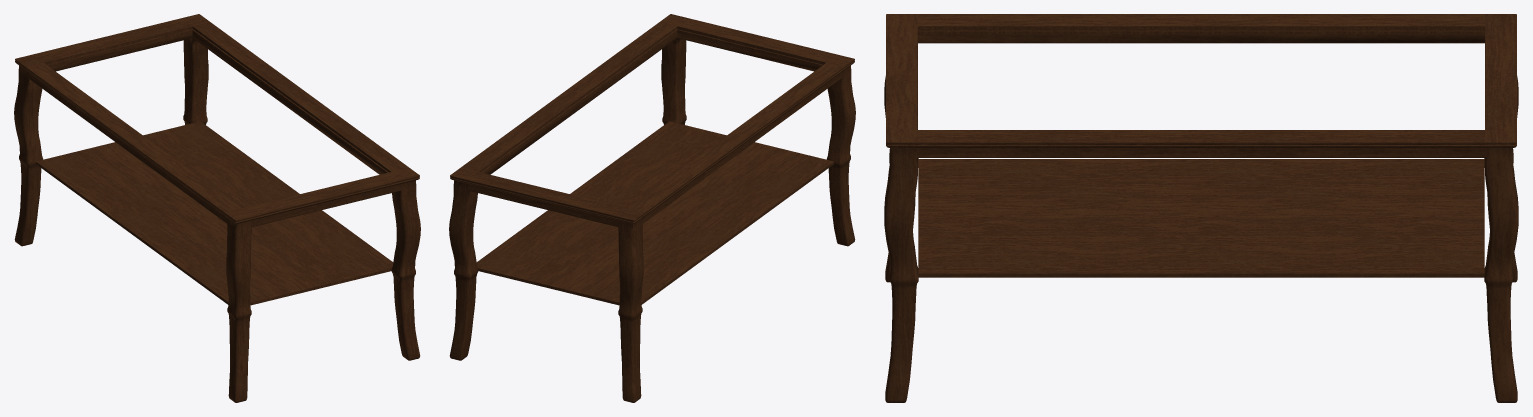
The picture shows the model from 3 angles, left to right: view 1: azimuth 30°, elevation 25°; view 2: azimuth 150°, elevation 25°; view 3: azimuth 270°, elevation 25°; orthographic projection. The views are drawn at different scales.
Visible parts, largest first — view 1: Small_table_2; view 2: Small_table_2; view 3: Small_table_2.
Boxes of the visible parts, <box> form: Small_table_2: <box>14,14,420,402</box>; Small_table_2: <box>449,14,855,402</box>; Small_table_2: <box>884,14,1518,402</box>.
Bounding box in the file's own units: 0.7265 × 0.6811 × 1.5.
2 materials, 1 textured.
